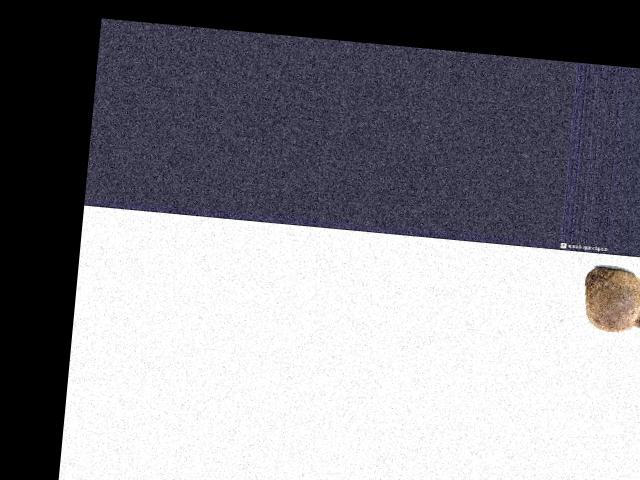beet: (581, 265, 640, 334)
